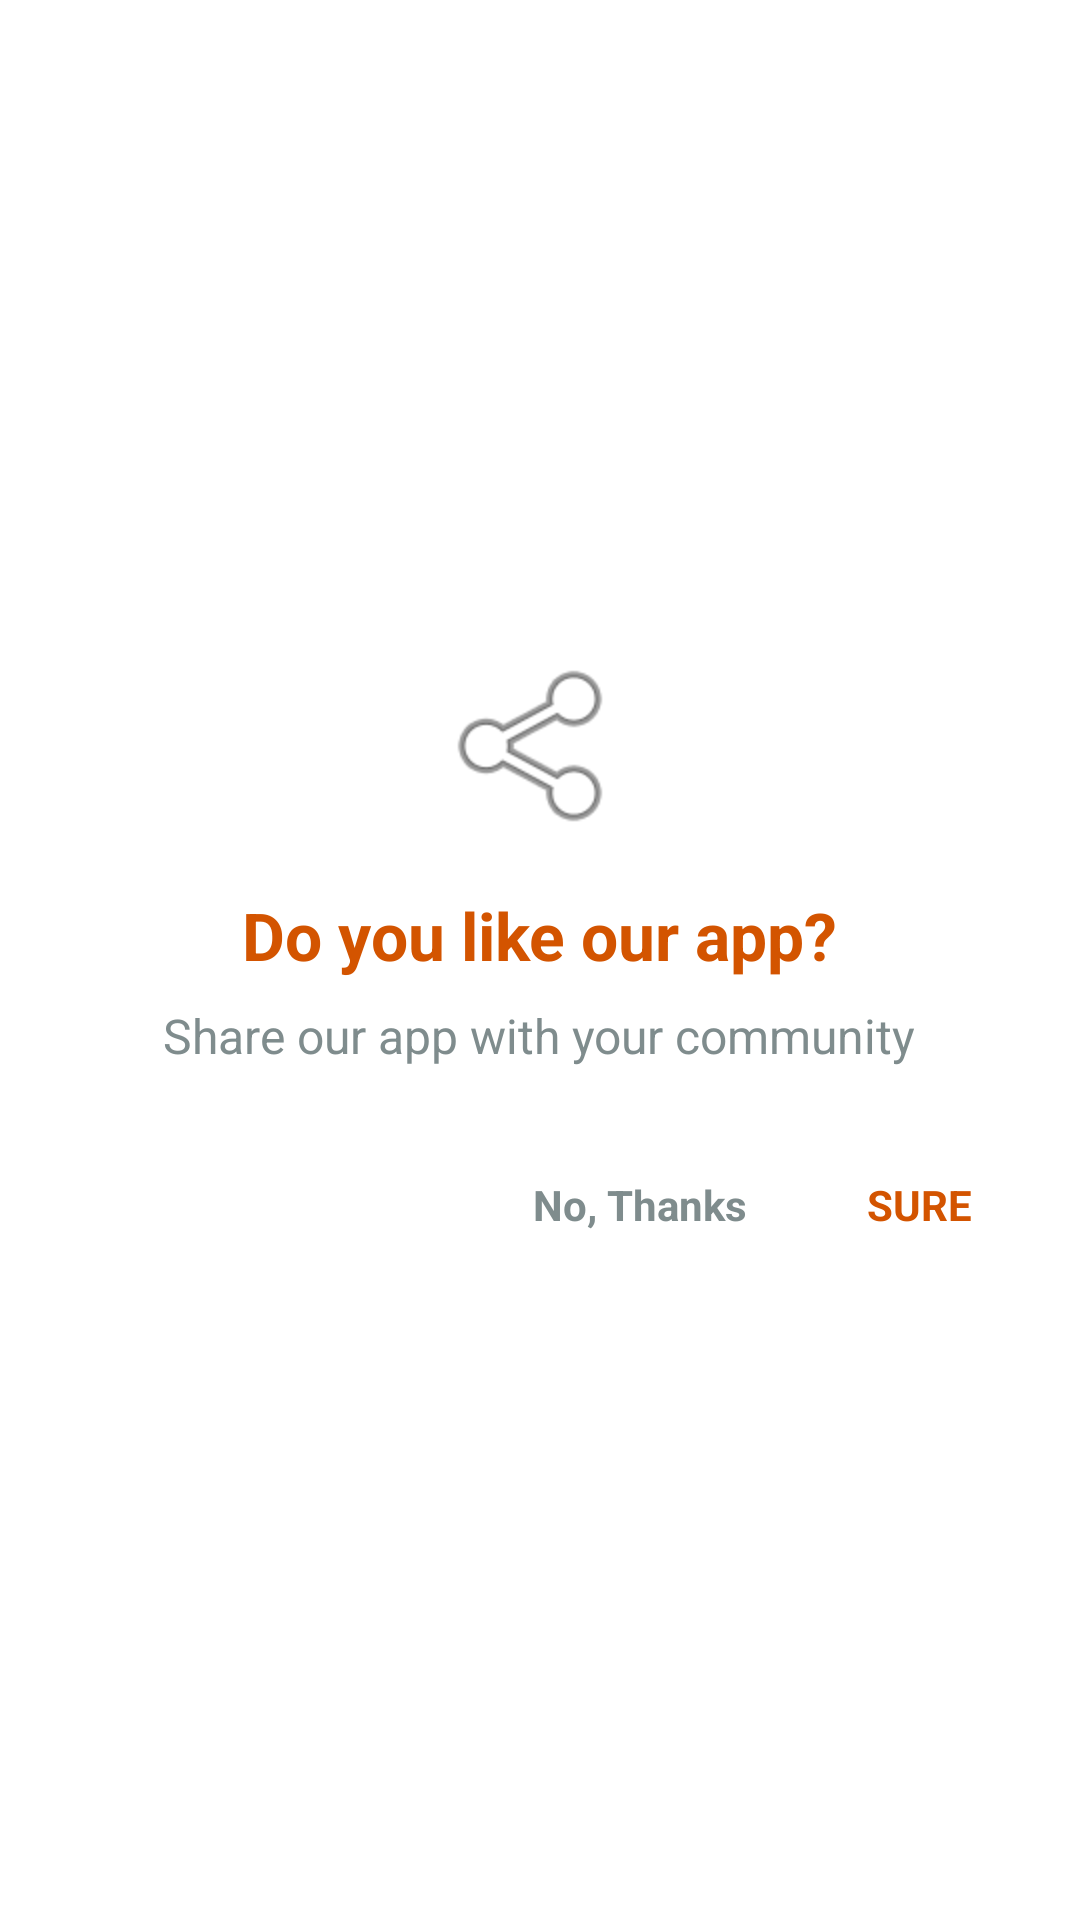

Named icons in this screenshot (1080w x 1920h) and their centers, (x=x, y=y):
Share Icon: (x=530, y=746)
